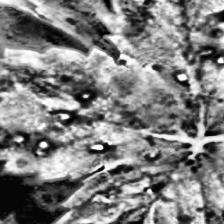Leaf Spot: (0, 45, 193, 180), (23, 139, 224, 224), (96, 0, 223, 134)
